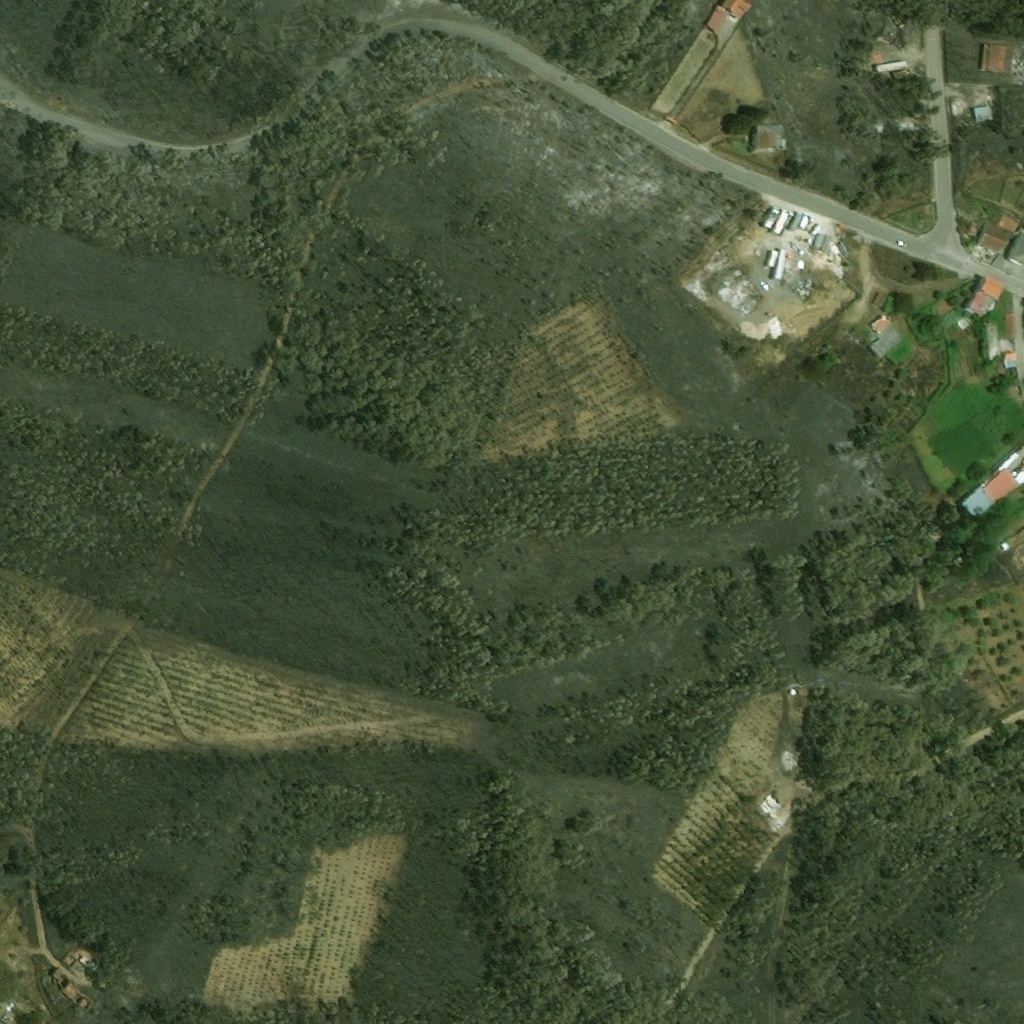0 no-damage: (961, 467, 1023, 520), (964, 287, 996, 319), (978, 225, 1011, 255), (704, 3, 731, 34), (978, 275, 1007, 301), (986, 323, 1000, 360), (1004, 313, 1018, 336), (1004, 352, 1017, 369), (956, 317, 970, 331), (1001, 544, 1010, 551)
1 minor-damage: (981, 44, 1016, 74), (752, 123, 785, 151), (974, 106, 992, 121)
3 destroyed: (758, 791, 784, 817), (789, 689, 797, 695)
4 un-classified: (722, 0, 753, 24), (1005, 228, 1023, 266)
